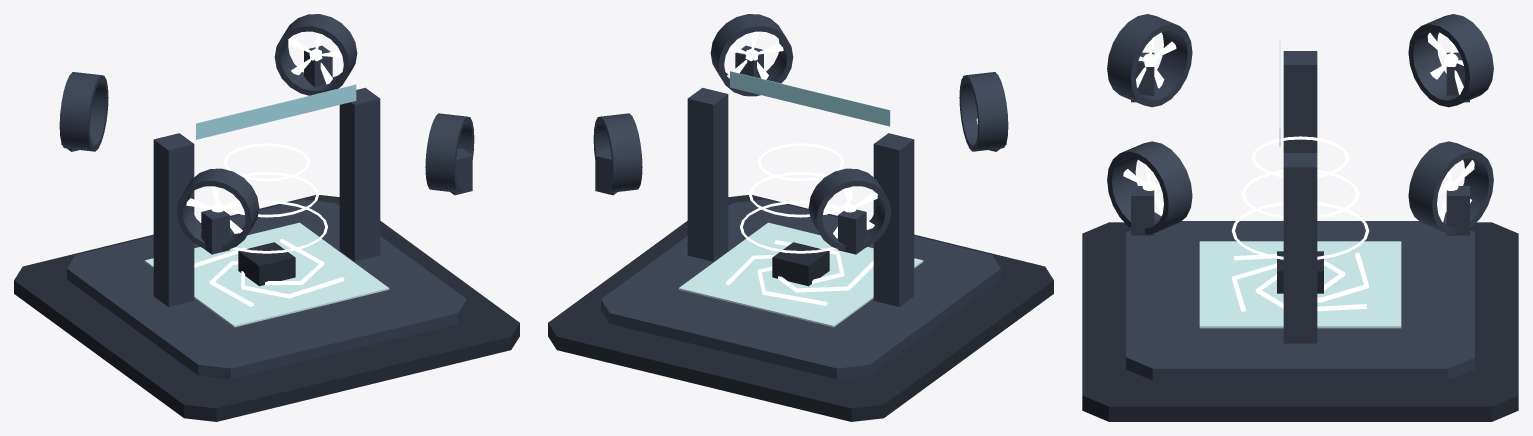
The model's file is GaleBoostPad_Roblox.fbx.
3 views of the same model, side by side, from view 1: azimuth 30°, elevation 25°; view 2: azimuth 150°, elevation 25°; view 3: azimuth 270°, elevation 25° (orthographic). The views are drawn at different scales.
Parts seen in each view (by area): view 1: TrimPlate, DarkPlate, BoostPad, EnergyGlass, EnergyGlow, AccentNeon; view 2: TrimPlate, DarkPlate, BoostPad, EnergyGlow, EnergyGlass, AccentNeon; view 3: TrimPlate, DarkPlate, BoostPad, EnergyGlass, AccentNeon.
Boxes of the visible parts, x1=… form: TrimPlate: x1=59, y1=14, x2=474, y2=379; DarkPlate: x1=14, y1=195, x2=519, y2=421; BoostPad: x1=144, y1=222, x2=389, y2=327; EnergyGlass: x1=186, y1=32, x2=342, y2=253; EnergyGlow: x1=196, y1=84, x2=356, y2=139; AccentNeon: x1=194, y1=49, x2=344, y2=306; TrimPlate: x1=593, y1=14, x2=1008, y2=379; DarkPlate: x1=548, y1=195, x2=1053, y2=421; BoostPad: x1=678, y1=222, x2=923, y2=327; EnergyGlow: x1=730, y1=71, x2=890, y2=126; EnergyGlass: x1=727, y1=31, x2=977, y2=253; AccentNeon: x1=726, y1=48, x2=873, y2=305; TrimPlate: x1=1107, y1=14, x2=1493, y2=380; DarkPlate: x1=1082, y1=222, x2=1518, y2=421; BoostPad: x1=1199, y1=241, x2=1401, y2=328; EnergyGlass: x1=1123, y1=33, x2=1474, y2=259; AccentNeon: x1=1142, y1=53, x2=1458, y2=311.
Bounding box in the file's own units: 1300 × 980 × 1300.
